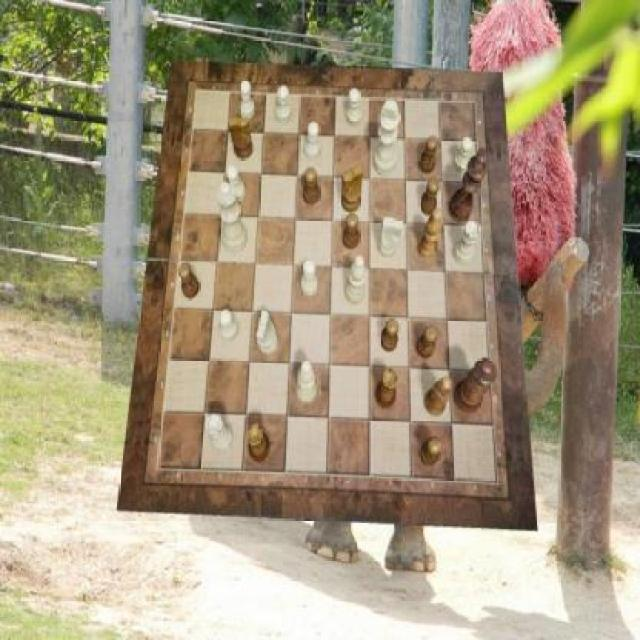bishop: (418, 208, 442, 260), (425, 377, 452, 417)
black-bishop: (449, 148, 487, 222)
black-king: (341, 166, 364, 214), (229, 117, 254, 159)
black-knight: (178, 263, 200, 299), (420, 135, 440, 174), (415, 326, 438, 359), (420, 179, 440, 216), (420, 437, 443, 468), (303, 166, 320, 204), (342, 214, 359, 250), (382, 318, 399, 352)
black-pawn: (454, 357, 498, 415)
black-queen: (375, 368, 398, 408), (248, 423, 270, 462)
black-rook: (344, 256, 366, 304), (295, 360, 318, 404)
white-bishop: (372, 99, 400, 176)
white-king: (255, 311, 278, 356), (379, 218, 403, 258)
white-knight: (454, 137, 474, 175), (226, 166, 246, 202), (220, 311, 240, 343), (304, 123, 320, 162), (276, 86, 292, 125), (346, 88, 362, 126), (240, 80, 255, 120), (302, 260, 318, 296)
white-pawn: (217, 182, 248, 252)
white-queen: (454, 220, 481, 265), (206, 414, 234, 451)
